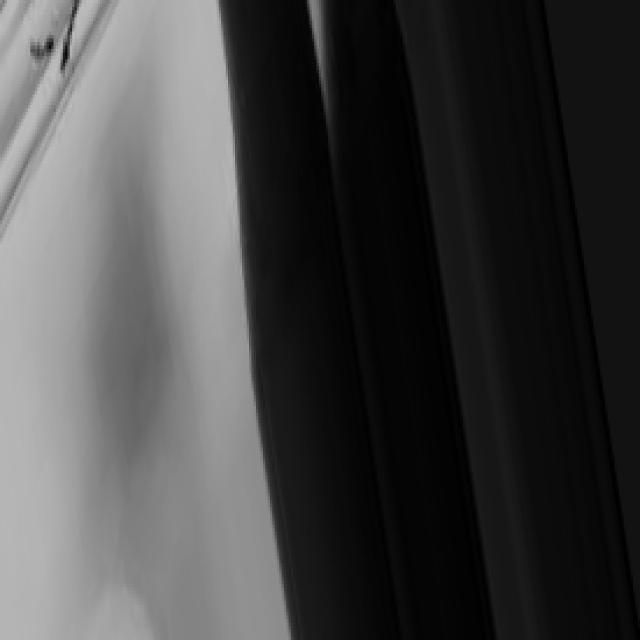larvas: (60, 0, 77, 63), (31, 37, 54, 63)
